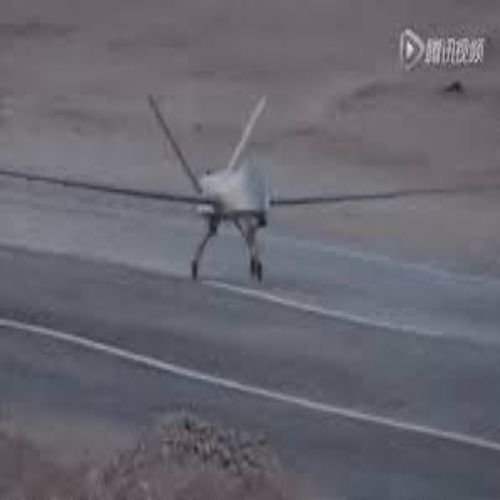uav: (4, 93, 486, 287)
